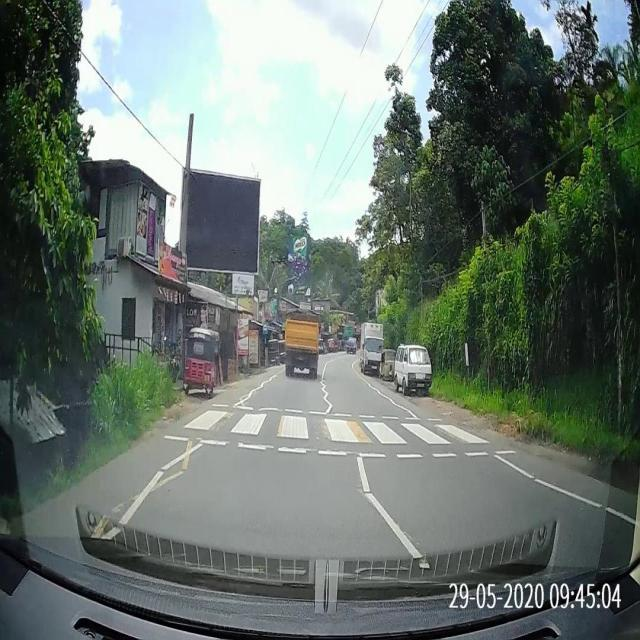Liniya 1: (491, 455, 637, 527), (115, 444, 205, 528), (355, 456, 426, 561)
Perehod: (181, 411, 489, 448)
